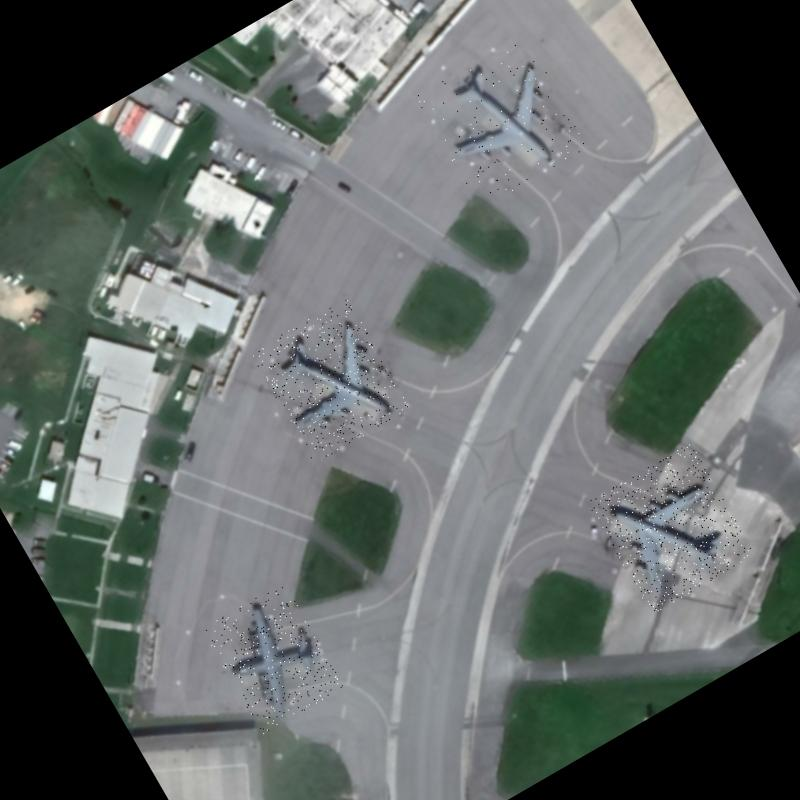A14: (414, 32, 590, 210), (587, 442, 756, 615), (250, 297, 412, 465)
A2: (202, 582, 345, 734)
